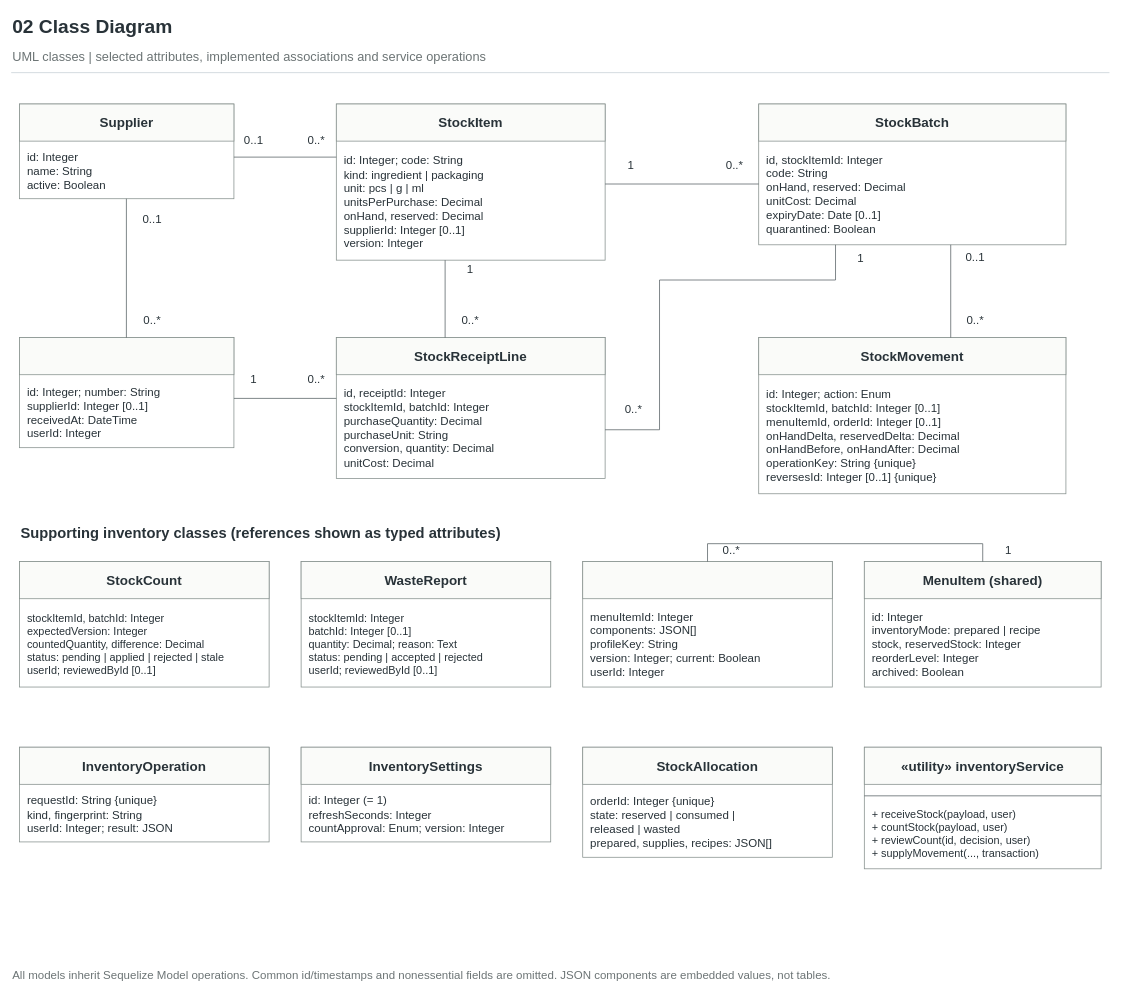
This 1122x1002 diagram has some shape labels left out. Here are the shapes that lost their labels. From the top down, the centre of each, then its label:
At (126,356): "StockReceipt".
At (707,580): "MenuRecipe".
